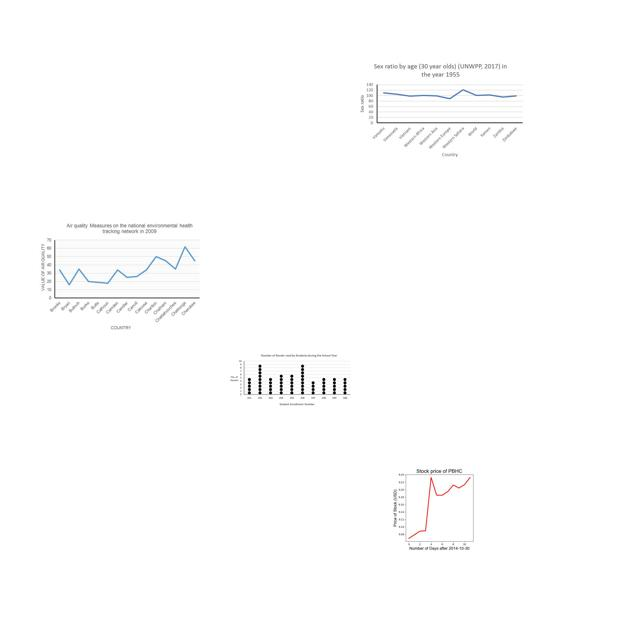Graph: (39, 221, 202, 334), (355, 61, 526, 158), (380, 464, 496, 551), (228, 352, 352, 407)
